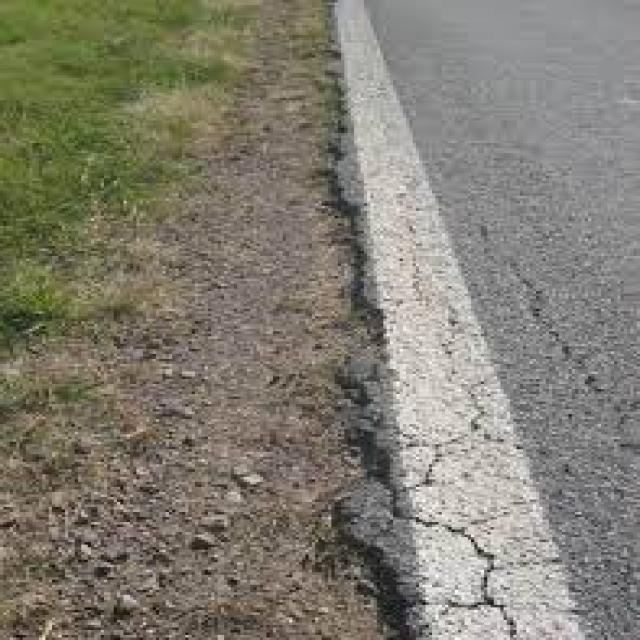Pothole: (31, 41, 640, 640)
